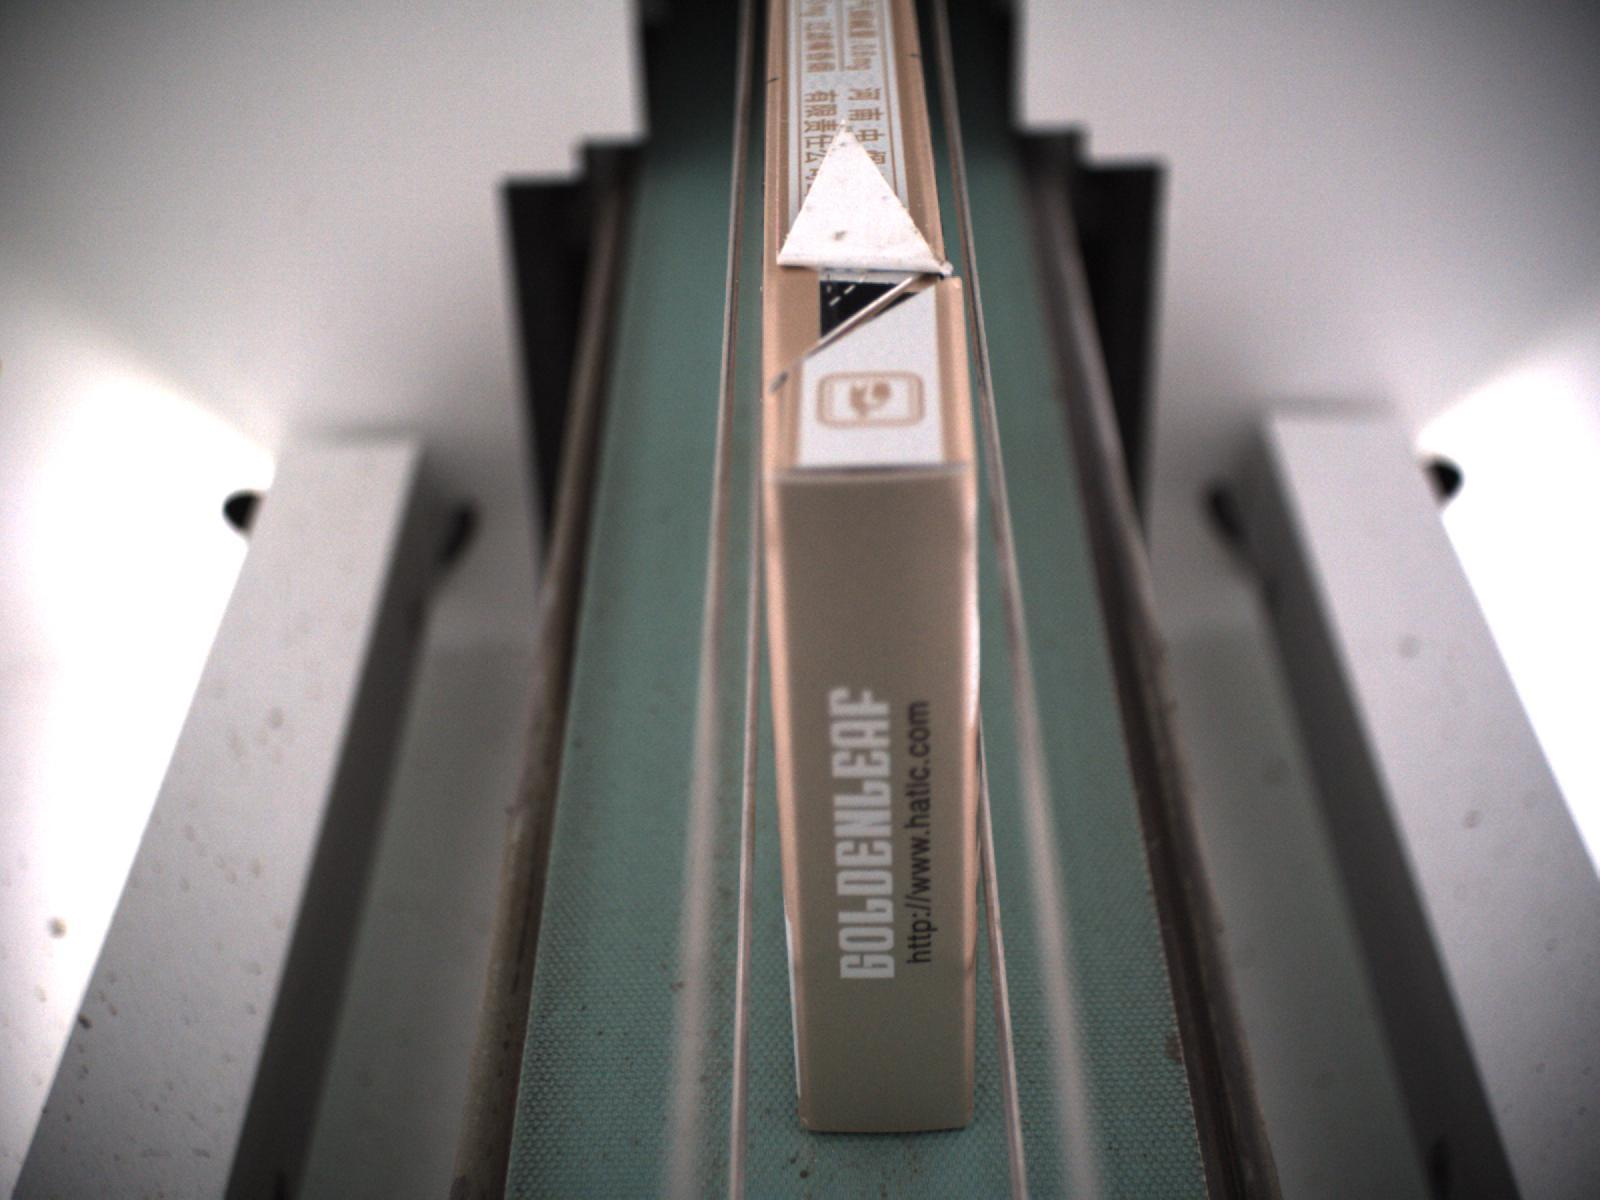outerFold_upper_2: (767, 121, 965, 389)
